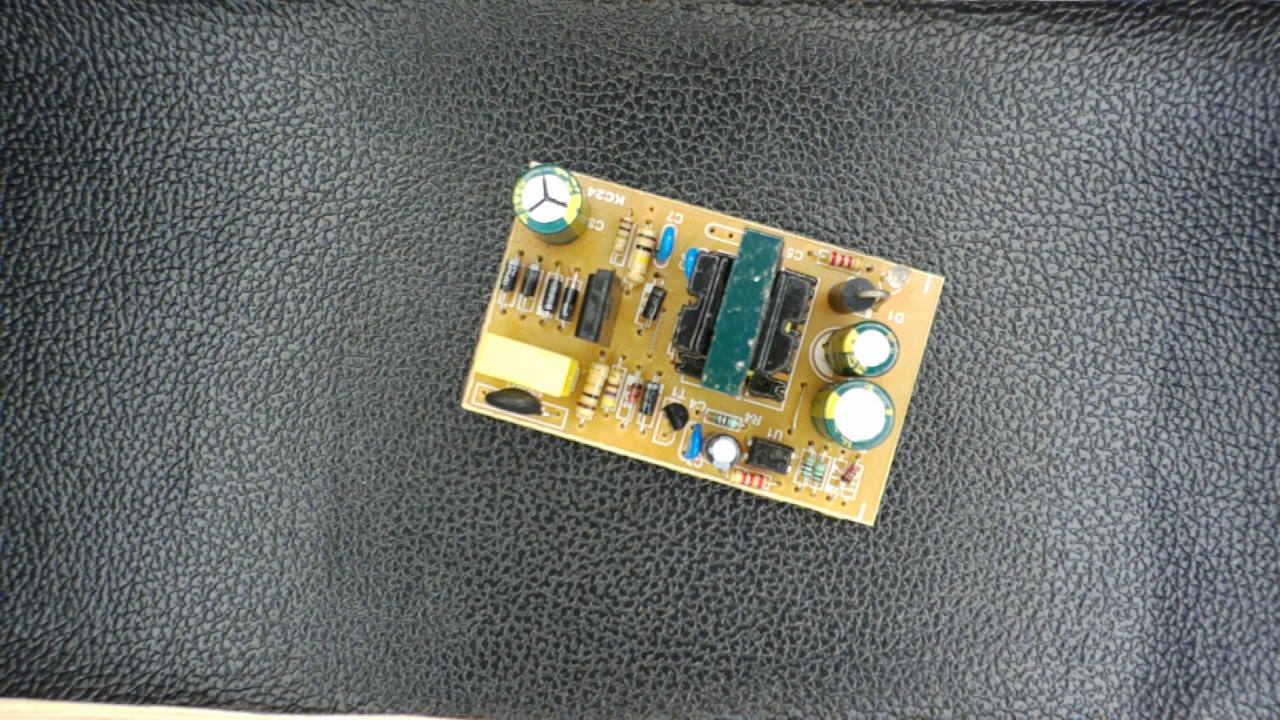fuse: (477, 381, 555, 423)
hv_capacitor: (507, 167, 594, 245)
optocoupler: (737, 429, 800, 479)
